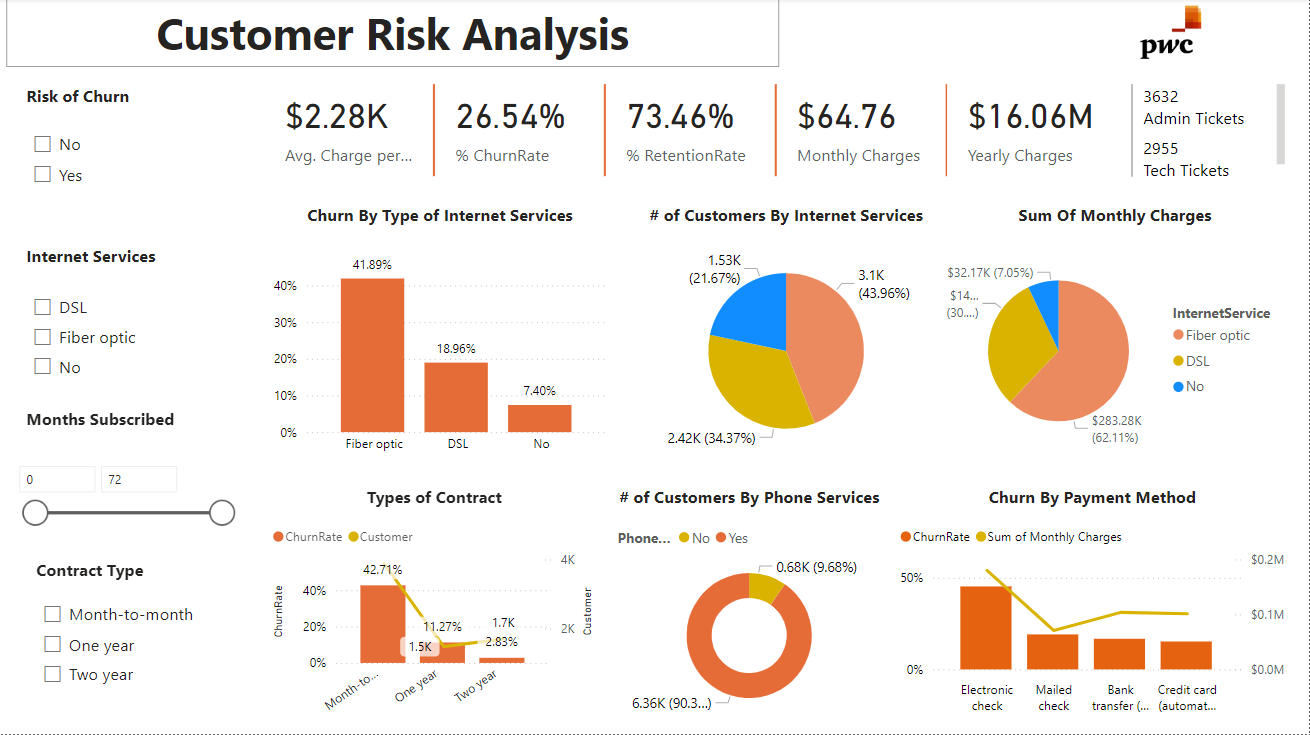

This screenshot's page, from the dashboard's own definition file:
{"tool":"powerbi","page":{"name":"Customers","canvas":[1280,720],"ordinal":2},"visuals":[{"type":"cardVisual","fields":{"Data":["Churn-Dataset.ACPU","Churn-Dataset.ChurnRate","Churn-Dataset.RetentionRate","Avg(Churn-Dataset.MonthlyCharges)","Sum(Churn-Dataset.TotalCharges)"]},"box":[261.7,79.5,840.1,100.3],"z":0},{"type":"slicer","fields":{"Values":["Churn-Dataset.Churn"]},"box":[20.5,112.2,217.2,67.6],"z":1000},{"type":"slicer","fields":{"Values":["Churn-Dataset.InternetService"]},"box":[20.5,270.2,217.2,102.5],"z":2000},{"type":"slicer","fields":{"Values":["Churn-Dataset.tenure"]},"box":[20.5,434.3,217.2,84.5],"z":3000},{"type":"slicer","fields":{"Values":["Churn-Dataset.Contract"]},"box":[20.5,582.7,217.2,96.5],"z":4000},{"type":"clusteredColumnChart","fields":{"Category":["Churn-Dataset.InternetService"],"Y":["Churn-Dataset.% ChurnRate"]},"box":[253.4,236.5,334.2,218.4],"z":5000},{"type":"pieChart","fields":{"Y":["CountNonNull(Churn-Dataset.customerID)"],"Category":["Churn-Dataset.InternetService"]},"box":[599.6,236.5,319.7,209.9],"z":6000},{"type":"pieChart","fields":{"Category":["Churn-Dataset.InternetService"],"Y":["Sum(Churn-Dataset.MonthlyCharges)"]},"box":[919.3,236.5,342.6,209.9],"z":7000},{"type":"lineStackedColumnComboChart","fields":{"Y":["Churn-Dataset.% ChurnRate"],"Y2":["CountNonNull(Churn-Dataset.customerID)"],"Category":["Churn-Dataset.Contract"]},"box":[253.4,507.9,333,203.9],"z":8000},{"type":"lineStackedColumnComboChart","fields":{"Y":["Churn-Dataset.% ChurnRate"],"Y2":["Sum(Churn-Dataset.MonthlyCharges)"],"Category":["Churn-Dataset.PaymentMethod"]},"box":[875.9,494.6,386.1,213.5],"z":9000},{"type":"multiRowCard","fields":{"Values":["Sum(Churn-Dataset.numAdminTickets)","Sum(Churn-Dataset.numTechTickets)"]},"box":[1101.8,79.5,160.2,100.3],"z":10000},{"type":"textbox","box":[20.8,0,741,67.3],"z":11000},{"type":"textbox","box":[253.4,195.4,333,41],"z":12000},{"type":"textbox","box":[599.6,195.4,319.7,41],"z":13000},{"type":"textbox","box":[919.6,195.7,342.4,40.4],"z":14000},{"type":"textbox","box":[253.4,471.7,334.2,36.2],"z":15000},{"type":"textbox","box":[875.9,458.4,386.1,36.2],"z":16000},{"type":"textbox","box":[20.2,79.4,217.9,44.7],"z":17000},{"type":"textbox","box":[20.5,213.5,217.2,45.8],"z":18000},{"type":"textbox","box":[20.5,395.7,217.2,38.6],"z":19000},{"type":"textbox","box":[20.5,542.9,217.2,39.8],"z":20000},{"type":"image","box":[1022.3,0,244.6,67.3],"z":21000},{"type":"donutChart","fields":{"Category":["Churn-Dataset.PhoneService"],"Y":["CountNonNull(Churn-Dataset.customerID)"]},"box":[599.6,494.6,267.8,213.5],"z":22000},{"type":"textbox","box":[599.6,458.4,267.8,53.1],"z":23000}]}

Visuals, with their boxes in screenshot pixels (x1, y1, x2, y2), scaled from the page's 1280x720 canvas onto the 1310x735 screenshot:
cardVisual - Churn-Dataset.ACPU x Churn-Dataset.ChurnRate: [268,81,1128,184]
slicer - Churn-Dataset.Churn: [21,115,243,184]
slicer - Churn-Dataset.InternetService: [21,276,243,380]
slicer - Churn-Dataset.tenure: [21,443,243,530]
slicer - Churn-Dataset.Contract: [21,595,243,693]
clusteredColumnChart - Churn-Dataset.InternetService x Churn-Dataset.% ChurnRate: [259,241,601,464]
pieChart - CountNonNull(Churn-Dataset.customerID) x Churn-Dataset.InternetService: [614,241,941,456]
pieChart - Churn-Dataset.InternetService x Sum(Churn-Dataset.MonthlyCharges): [941,241,1291,456]
lineStackedColumnComboChart - Churn-Dataset.% ChurnRate x CountNonNull(Churn-Dataset.customerID): [259,518,600,727]
lineStackedColumnComboChart - Churn-Dataset.% ChurnRate x Sum(Churn-Dataset.MonthlyCharges): [896,505,1292,723]
multiRowCard - Sum(Churn-Dataset.numAdminTickets) x Sum(Churn-Dataset.numTechTickets): [1128,81,1292,184]
textbox: [21,0,780,69]
textbox: [259,199,600,241]
textbox: [614,199,941,241]
textbox: [941,200,1292,241]
textbox: [259,482,601,518]
textbox: [896,468,1292,505]
textbox: [21,81,244,127]
textbox: [21,218,243,265]
textbox: [21,404,243,443]
textbox: [21,554,243,595]
image: [1046,0,1297,69]
donutChart - Churn-Dataset.PhoneService x CountNonNull(Churn-Dataset.customerID): [614,505,888,723]
textbox: [614,468,888,522]
